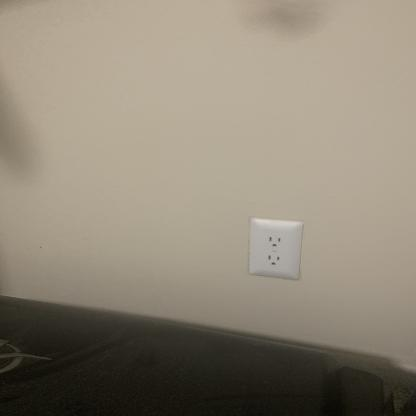OUTLET: (248, 218, 304, 280)
